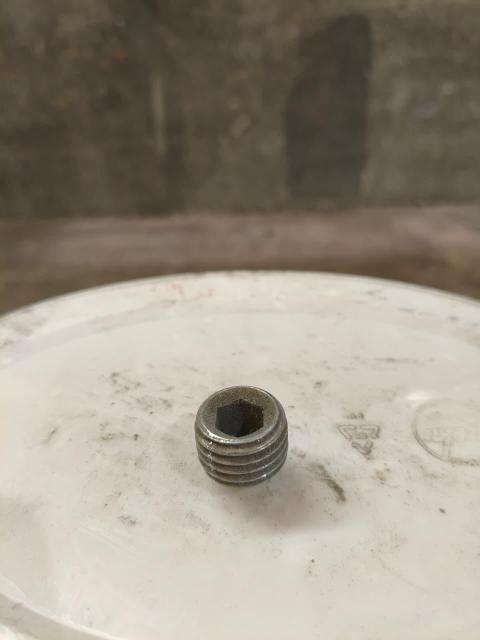Metal: (194, 386, 290, 489)
